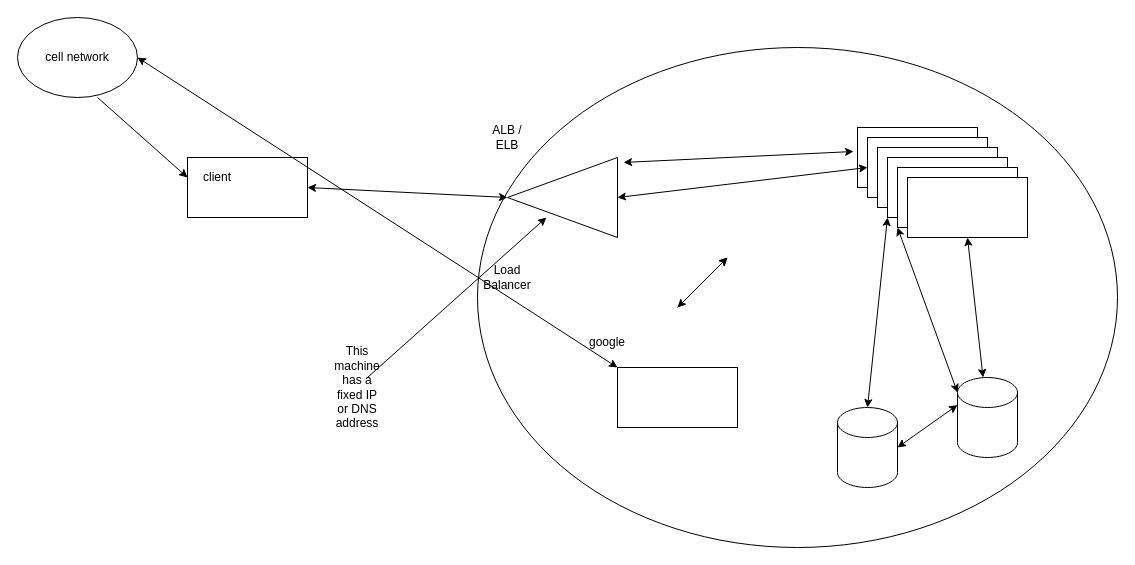
Some shapes in this 1135 by 565 pixel diagram are drawn without their labels. Each missing label, with the centre of its shape:
"notification server" goes at point (677, 397).
"Text" goes at point (562, 197).
